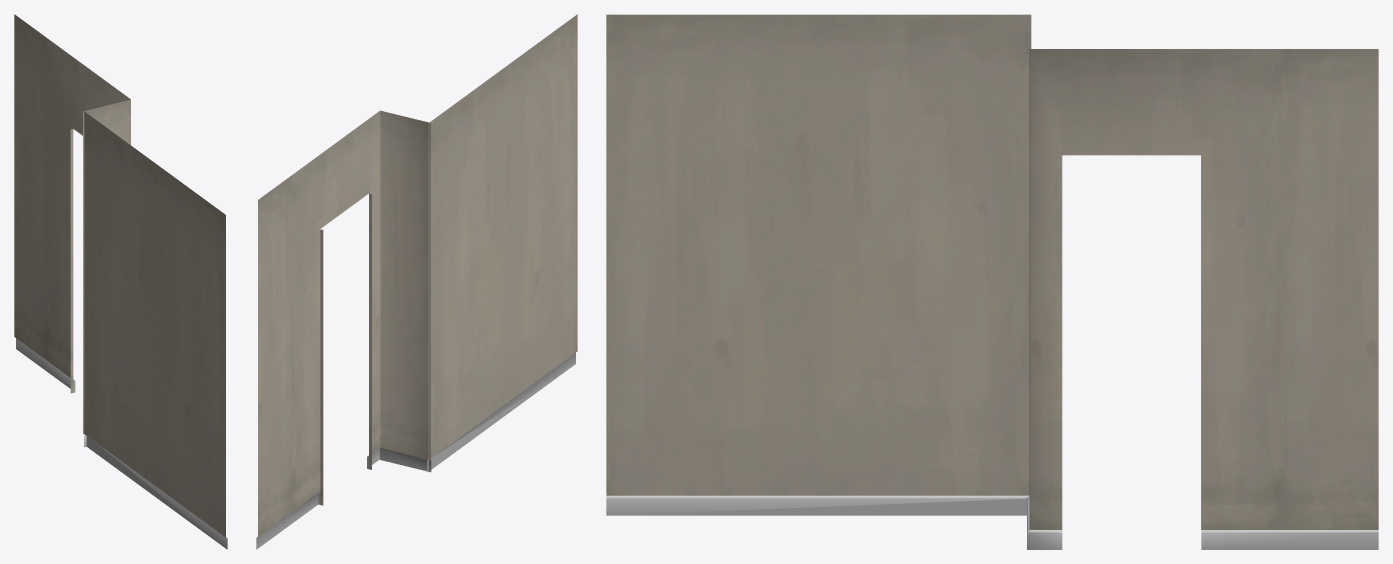
The model's file is Pared_Izq_H2.obj.
3 renders of one model, left to right at view 1: azimuth 30°, elevation 25°; view 2: azimuth 150°, elevation 25°; view 3: azimuth 270°, elevation 25°, orthographic. The views are drawn at different scales.
Parts seen in each view (by area): view 1: Pared_Izq_H2; view 2: Pared_Izq_H2; view 3: Pared_Izq_H2.
Boxes of the visible parts, box(x1,y1,x2,y2) form: Pared_Izq_H2: box(14, 14, 227, 549); Pared_Izq_H2: box(256, 14, 577, 549); Pared_Izq_H2: box(606, 14, 1378, 549).
Bounding box in the file's own units: 0.4128 × 2.66 × 3.72.
3 materials, 3 textured.
